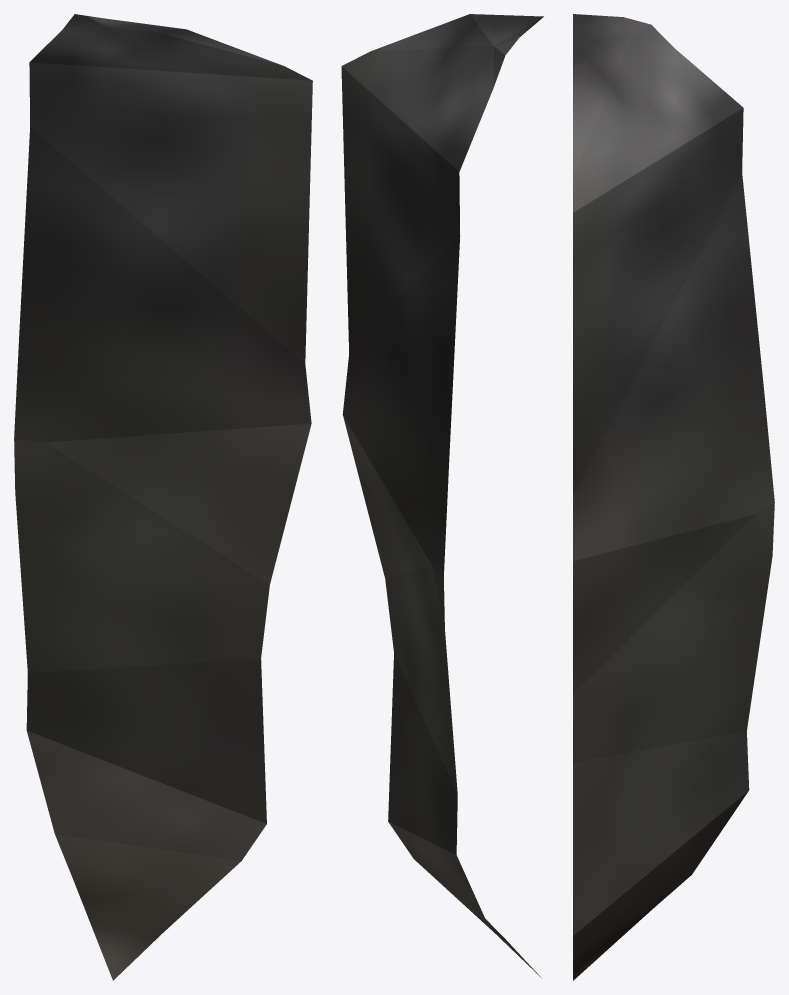
The picture shows the model from 3 angles, left to right: view 1: azimuth 30°, elevation 25°; view 2: azimuth 150°, elevation 25°; view 3: azimuth 270°, elevation 25°; orthographic projection.
Bounding box in the file's own units: 0.0243 × 0.1102 × 0.0208.
Materials: 1 (1 with a texture image).
